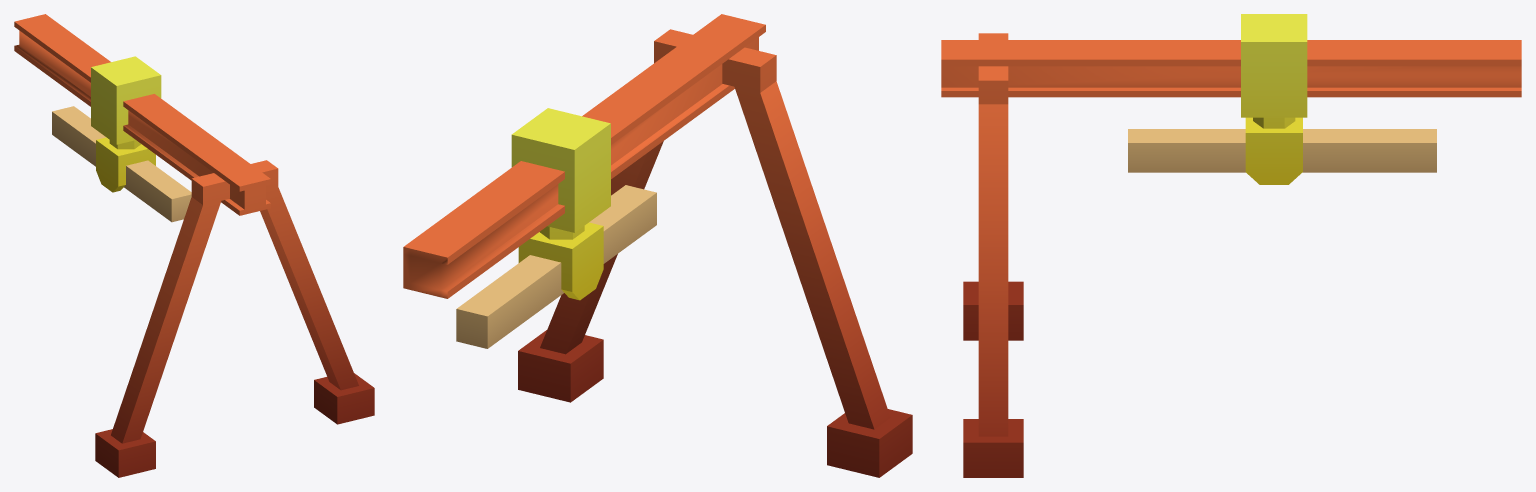
The model's file is furniture mechanism.fbx.
3 renders of one model, left to right at view 1: azimuth 30°, elevation 25°; view 2: azimuth 150°, elevation 25°; view 3: azimuth 270°, elevation 25°, orthographic. The views are drawn at different scales.
Parts seen in each view (by area): view 1: furniture_mechanism, mechanism, wooden_block; view 2: furniture_mechanism, mechanism, wooden_block; view 3: furniture_mechanism, wooden_block, mechanism.
Part boxes in pixels (left/top/right/bottom): furniture_mechanism: left=14, top=14, right=374, bottom=477; mechanism: left=91, top=56, right=161, bottom=192; wooden_block: left=52, top=106, right=191, bottom=222; furniture_mechanism: left=403, top=14, right=912, bottom=477; mechanism: left=511, top=108, right=610, bottom=300; wooden_block: left=456, top=185, right=656, bottom=348; furniture_mechanism: left=941, top=33, right=1521, bottom=477; wooden_block: left=1128, top=129, right=1436, bottom=172; mechanism: left=1241, top=14, right=1307, bottom=184.
Bounding box in the file's own units: 382 × 410 × 583.
Materials: 1 (1 with a texture image).
